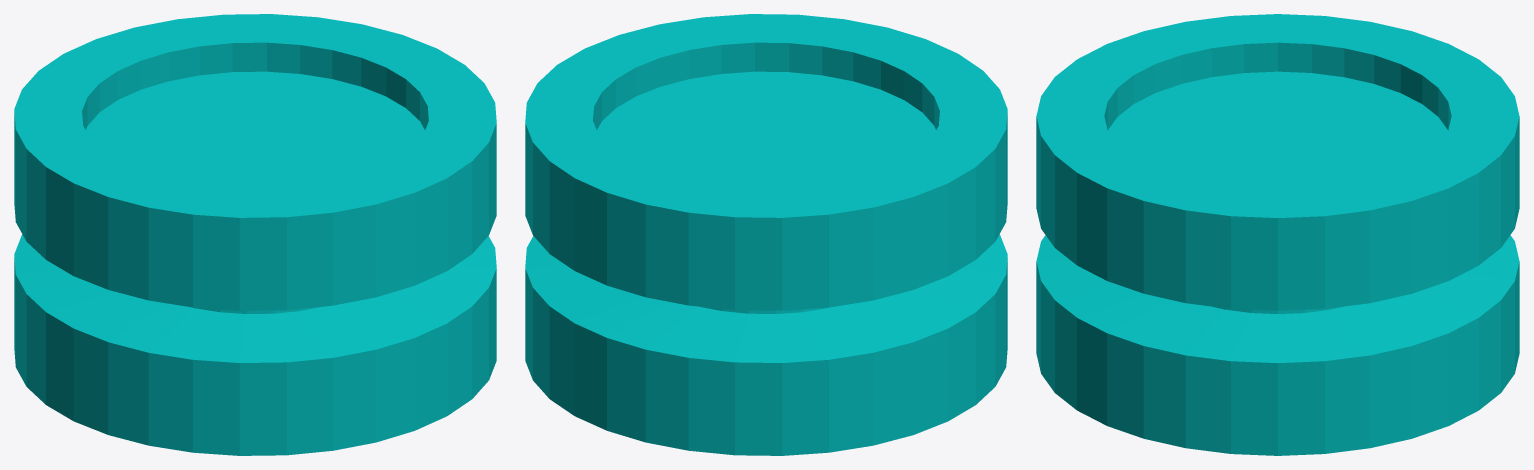
The model's file is Yoyo.obj.
3 renders of one model, left to right at view 1: azimuth 30°, elevation 25°; view 2: azimuth 150°, elevation 25°; view 3: azimuth 270°, elevation 25°, orthographic.
Visible parts, largest first — view 1: 円柱; view 2: 円柱; view 3: 円柱.
Boxes of the visible parts, left/top/right/bottom form: 円柱: left=14, top=14, right=496, bottom=455; 円柱: left=525, top=14, right=1007, bottom=455; 円柱: left=1036, top=14, right=1519, bottom=455.
Bounding box in the file's own units: 2 × 1.09 × 2.
